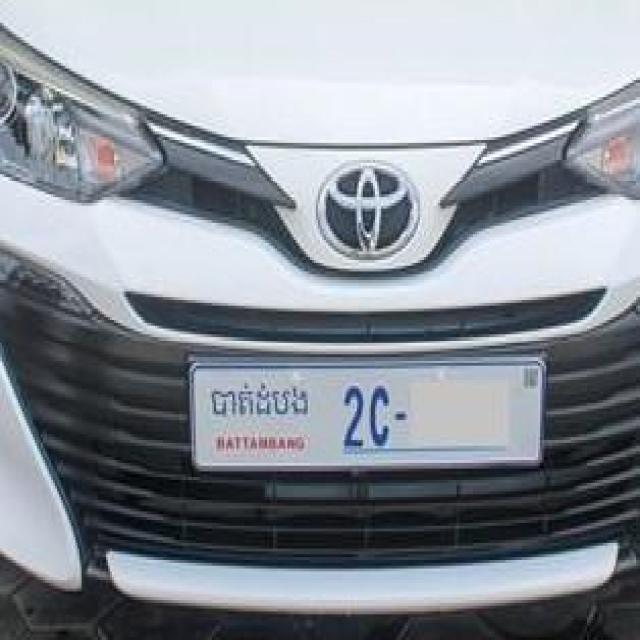Battambang: (210, 380, 310, 421)
